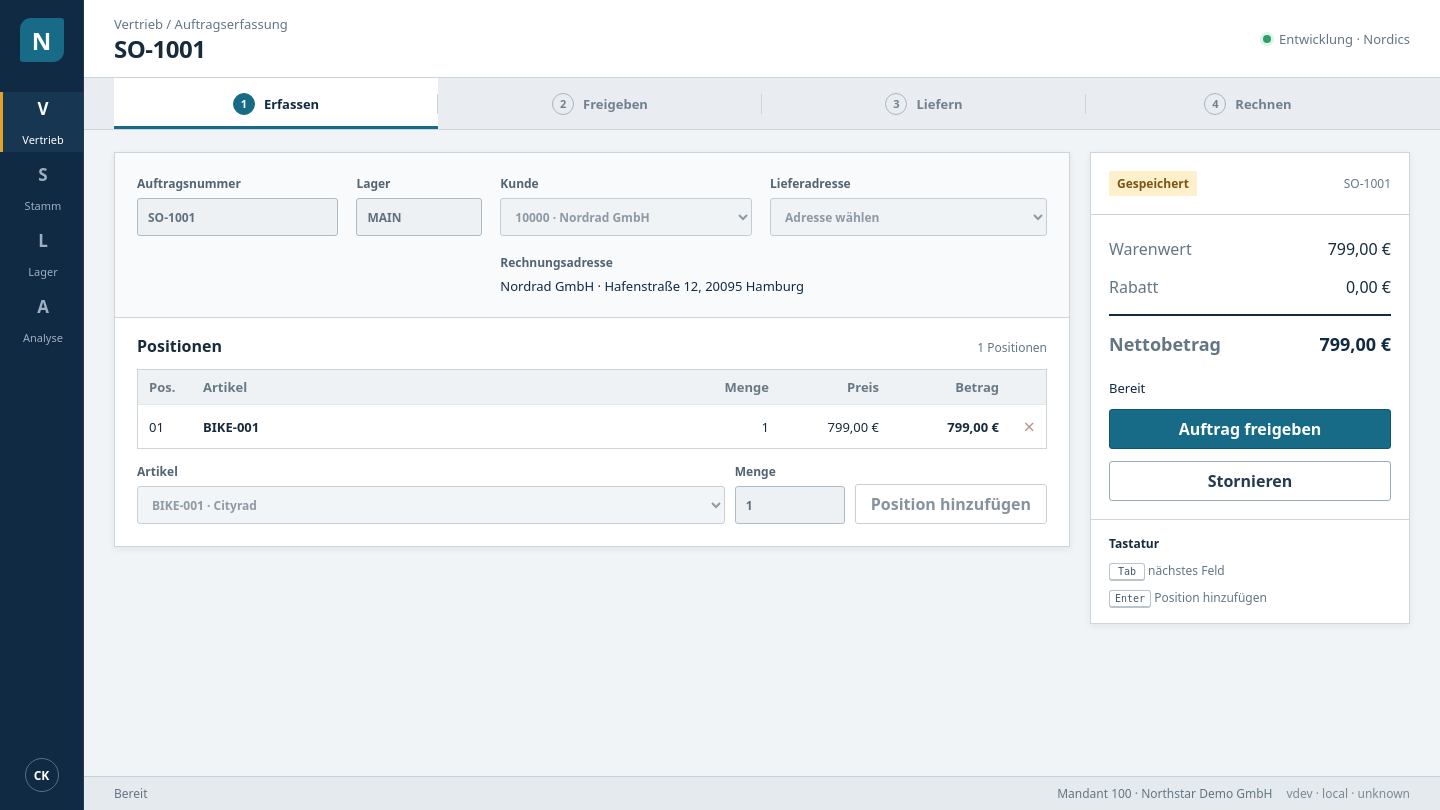
Test: points to the Firma tab when a release is refused for missing seller details
The width and height of the screenshot is (1440, 810).
Step 1. Click the button "Auftrag freigeben" → (1250, 429), box [1109,409,1391,449]
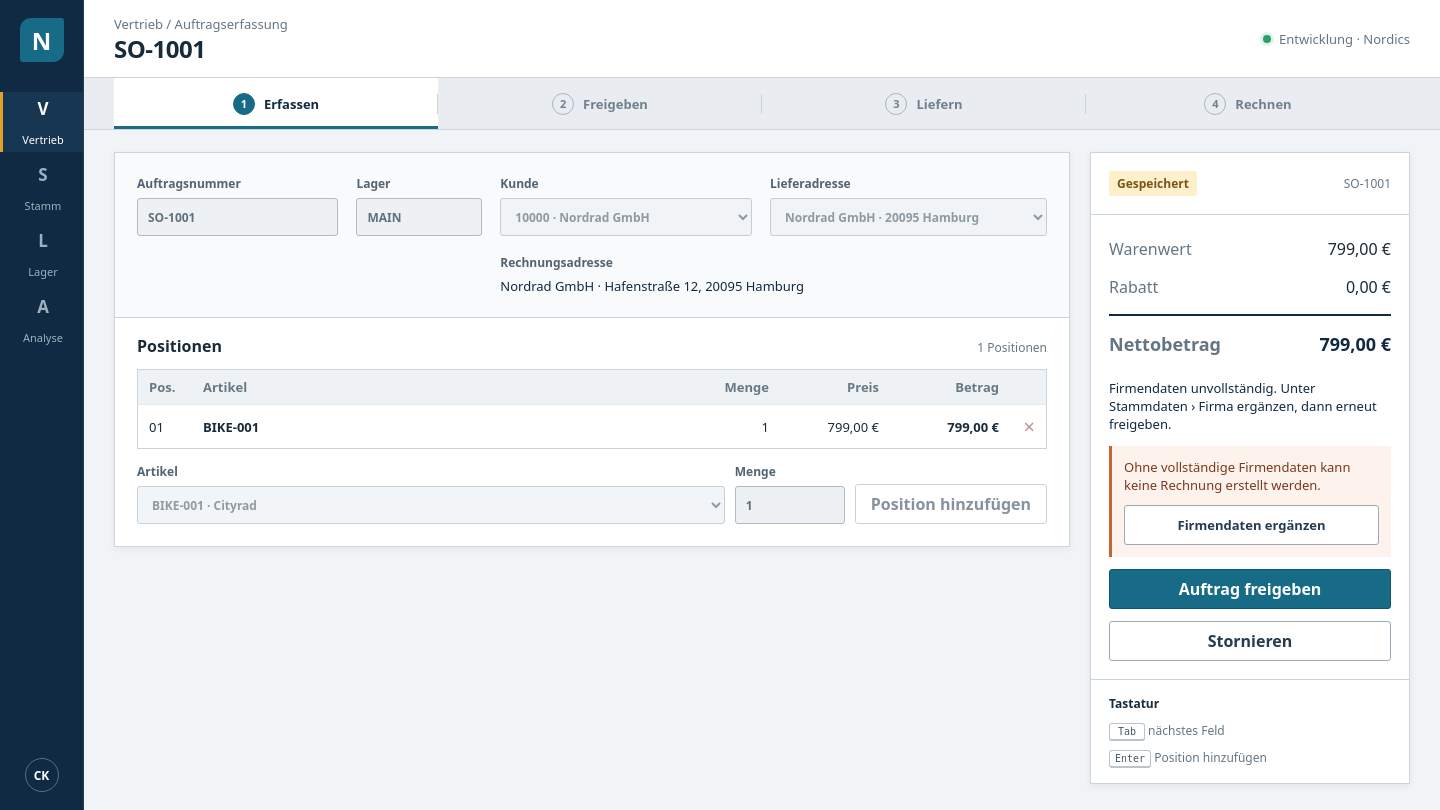
Expected: the text "Gespeichert" is shown, [1109,171,1197,196]
Now the message shows "Ohne vollständige Firmendaten kann keine Rechnung erstellt werden.", box [1124,458,1350,494]
Now the text "Firmendaten unvollständig. Unter Stammdaten › Firma ergänzen, dann erneut freigeben." is shown, box [1109,379,1377,433]
Step 2. Click the button "Firmendaten ergänzen" → (1252, 525), box [1124,505,1379,545]
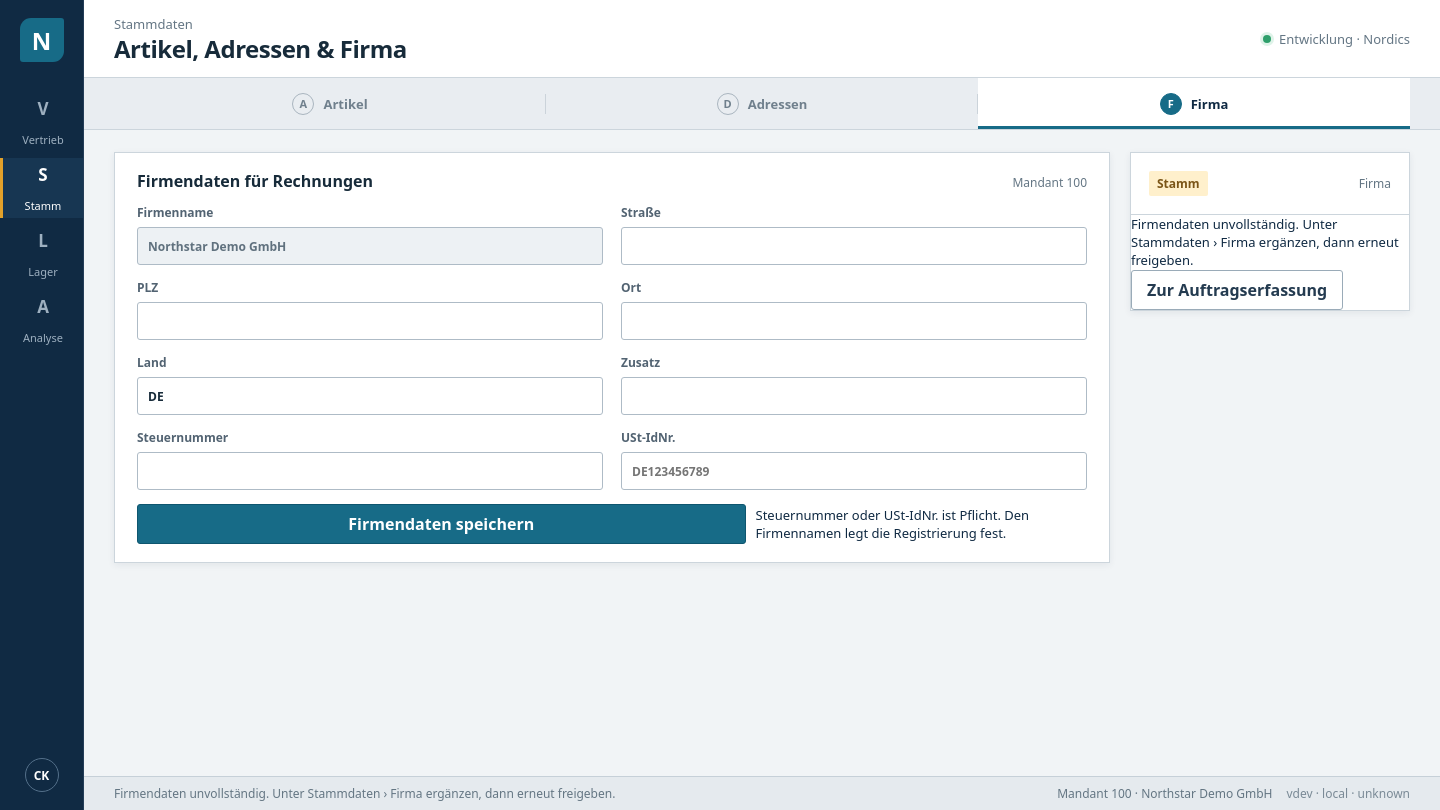
Now the heading "Firmendaten für Rechnungen" is shown, box [137,170,373,192]
